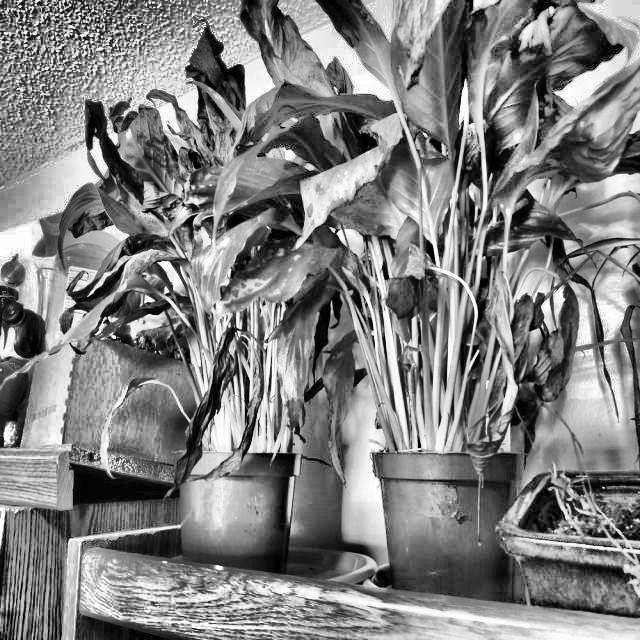plants: (329, 3, 635, 594), (75, 6, 326, 576), (498, 16, 634, 190), (476, 256, 578, 458), (167, 322, 276, 500), (183, 33, 247, 176)
